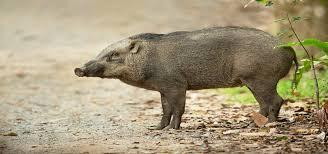wildboar: (73, 24, 301, 131)
